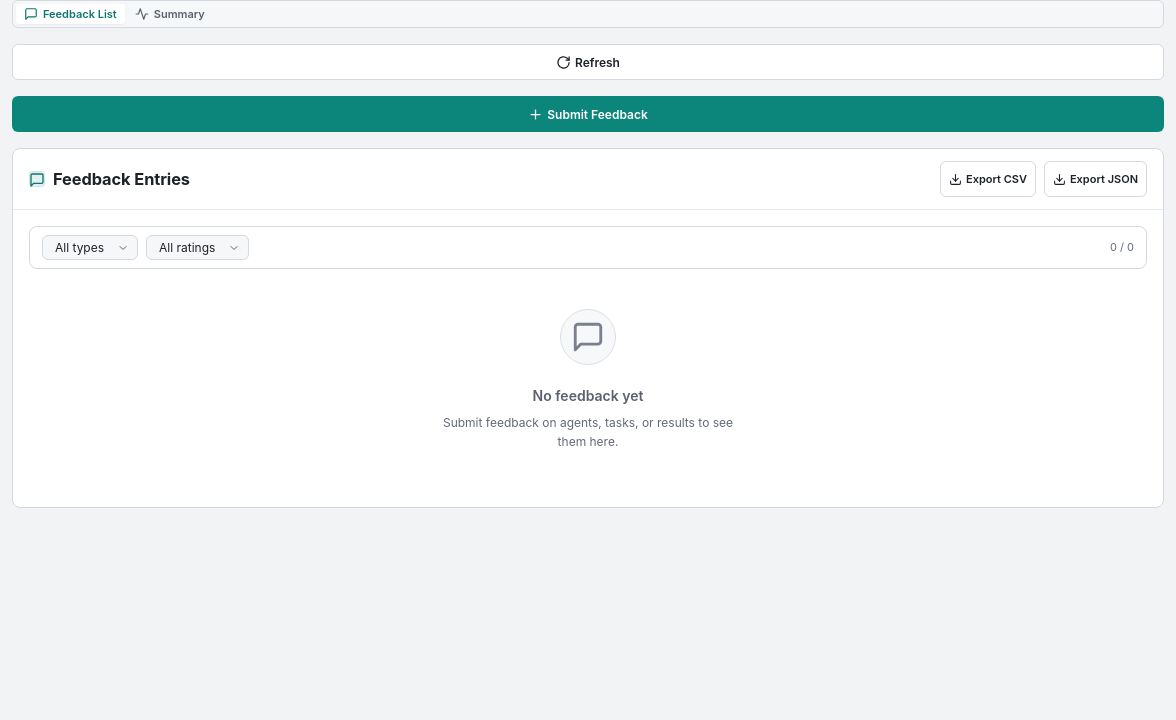
Scenario: Feedback.vue › renders rating distribution bars in summary
What coordinates should you click on to do the following:
click the radio button with class "segmented__item" showing "Summary"
I would click on:
 (170, 14)
Its box is [127,4,213,24].
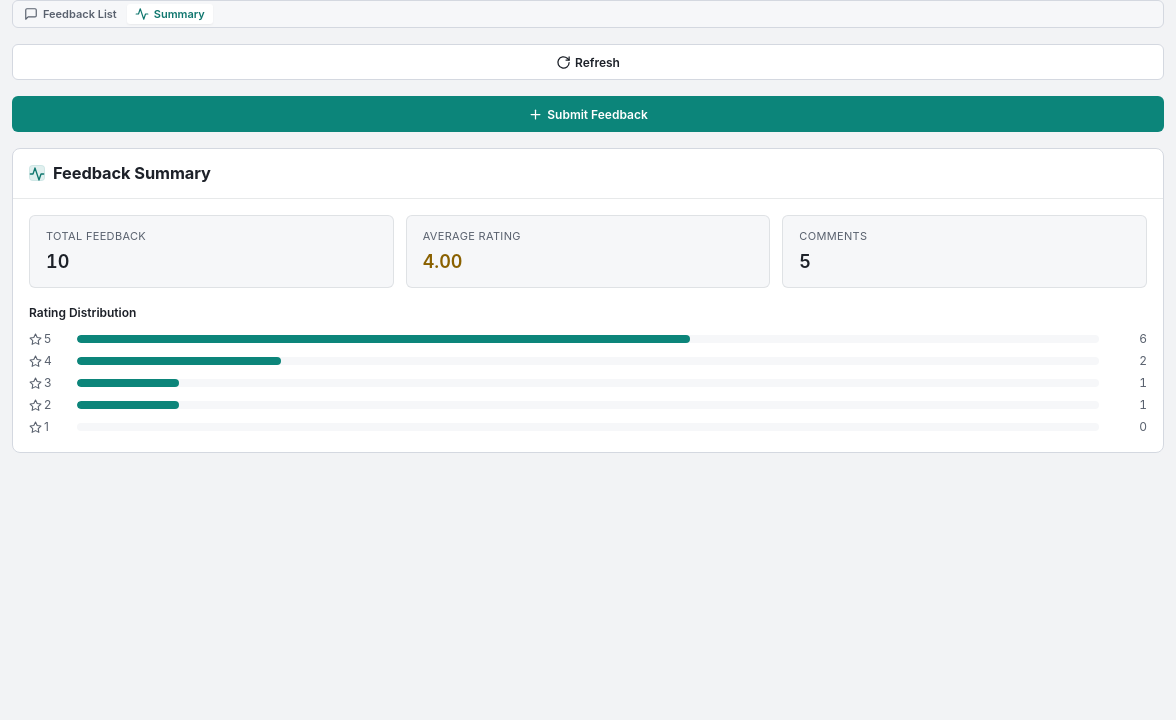
Now the element with class "fb-distribution" is shown, box [29,304,1147,436]
Now the number of elements with class "fb-distribution__row" is 5, box [29,330,1147,348]; [29,352,1147,370]; [29,374,1147,392]; [29,396,1147,414]; [29,418,1147,436]
